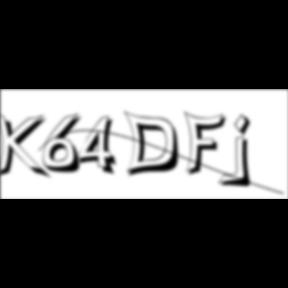4: (76, 115, 124, 179)
6: (42, 112, 88, 176)
D: (124, 110, 186, 180)
F: (184, 110, 232, 178)
K: (0, 110, 54, 182)
j: (232, 113, 258, 191)
